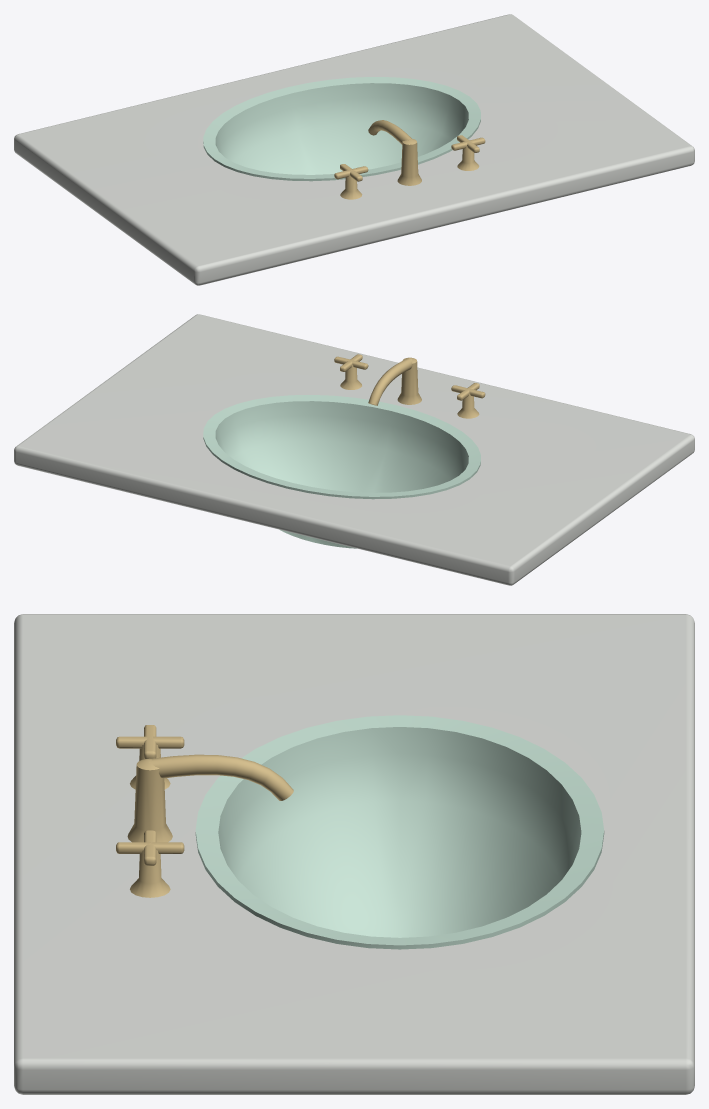
File: lp_basin_top.glb
3 renders of one model, top to bottom at view 1: azimuth 30°, elevation 25°; view 2: azimuth 150°, elevation 25°; view 3: azimuth 270°, elevation 25°, orthographic. The views are drawn at different scales.
Visible parts, largest first — view 1: lp_basin_top; view 2: lp_basin_top; view 3: lp_basin_top.
Boxes of the visible parts, x1,y1,x2,y2 form: lp_basin_top: [14, 14, 694, 285]; lp_basin_top: [14, 314, 694, 585]; lp_basin_top: [14, 614, 694, 1094].
Size of the model in its own units: 0.94 by 0.2282 by 0.6.
